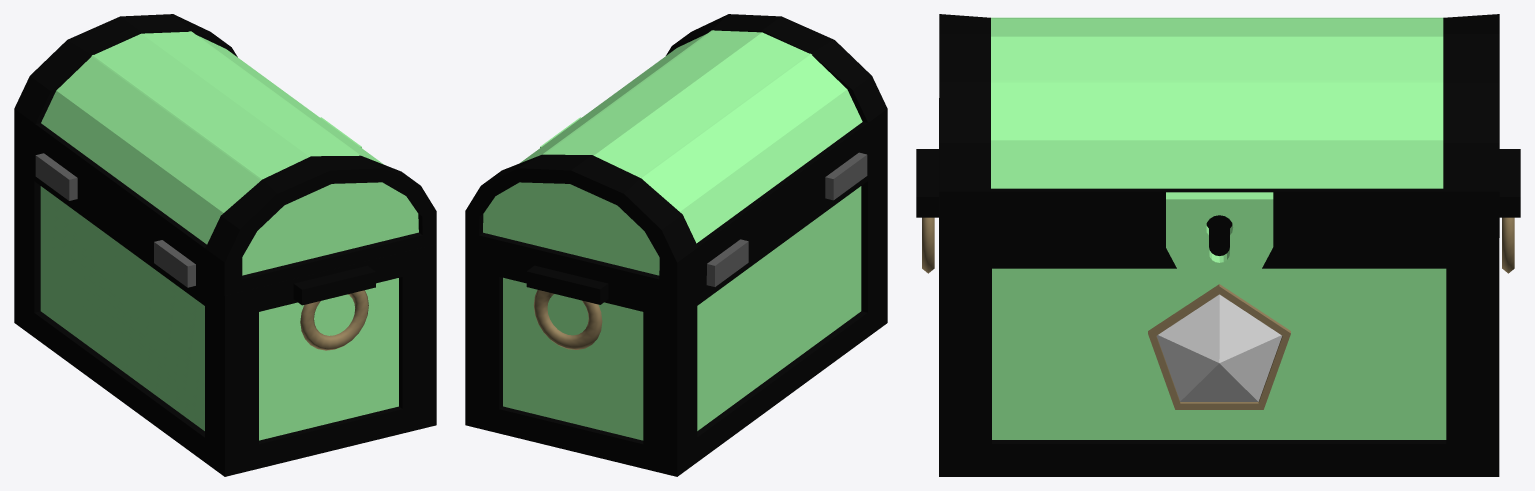
The model's file is Cofre Verde.fbx.
3 views of the same model, side by side, from view 1: azimuth 30°, elevation 25°; view 2: azimuth 150°, elevation 25°; view 3: azimuth 270°, elevation 25° (orthographic). The views are drawn at different scales.
Visible parts, largest first — view 1: Cube.049, Cube.050; view 2: Cube.049, Cube.050; view 3: Cube.049, Cube.050.
Part boxes in pixels (left/top/right/bottom): Cube.049: left=14, top=143, right=436, bottom=476; Cube.050: left=14, top=14, right=436, bottom=296; Cube.049: left=465, top=143, right=887, bottom=476; Cube.050: left=465, top=14, right=887, bottom=297; Cube.049: left=916, top=98, right=1520, bottom=476; Cube.050: left=939, top=14, right=1499, bottom=282.
Size of the model in its own units: 65.74 by 76.41 by 112.
